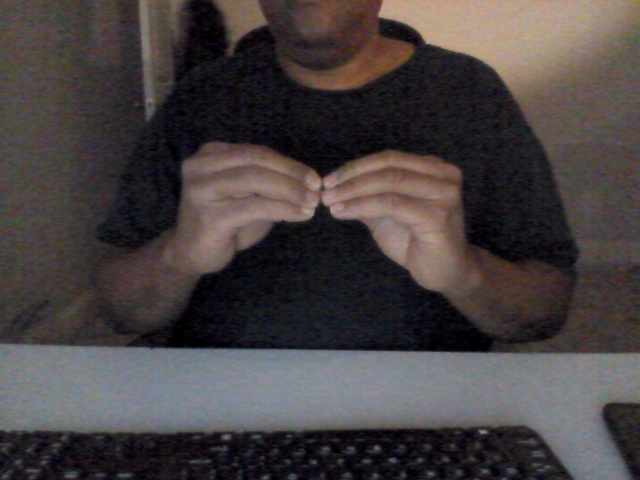more: (175, 130, 473, 293)
